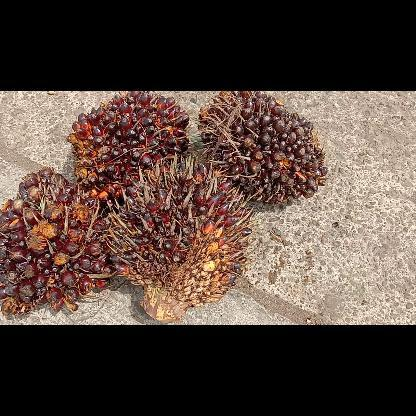Kurang masak: (104, 156, 256, 324), (0, 164, 116, 318), (192, 90, 332, 206), (66, 91, 190, 204)
